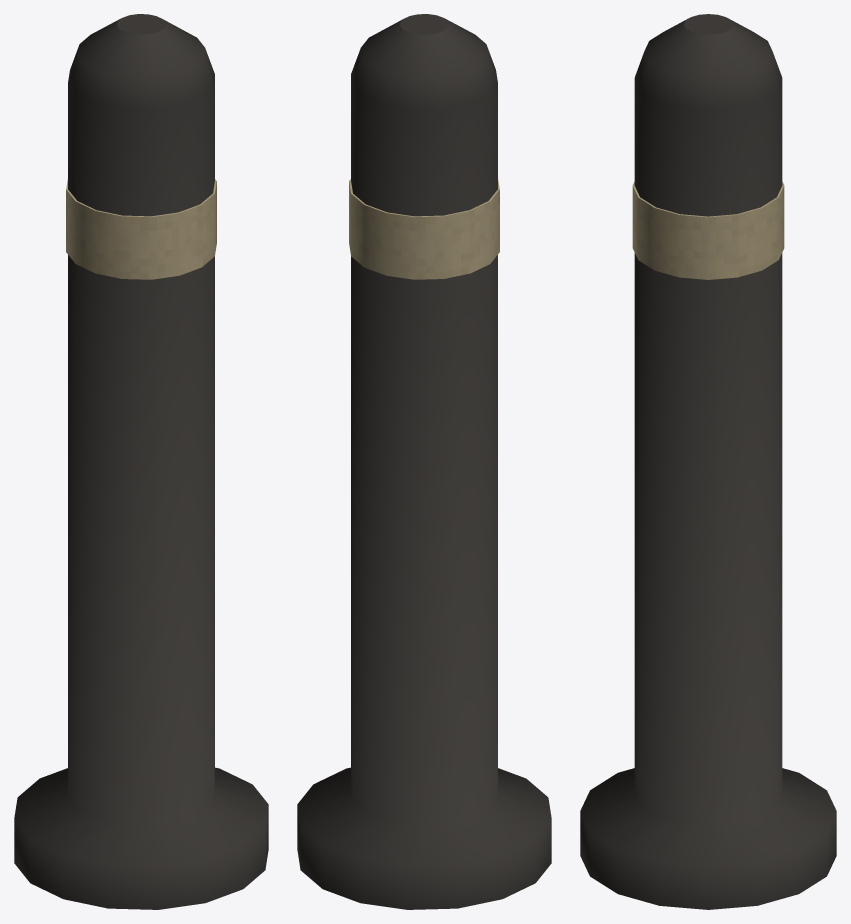
Rendered from MS_SP_06_Bollard.glb.
3 views of the same model, side by side, from view 1: azimuth 30°, elevation 25°; view 2: azimuth 150°, elevation 25°; view 3: azimuth 270°, elevation 25° (orthographic).
Visible parts, largest first — view 1: RoundedBollard, Reflector; view 2: RoundedBollard, Reflector; view 3: RoundedBollard, Reflector.
Part boxes in pixels (bbox=[...]): RoundedBollard: bbox=[14, 14, 268, 909]; Reflector: bbox=[66, 179, 216, 279]; RoundedBollard: bbox=[297, 14, 551, 909]; Reflector: bbox=[349, 179, 499, 279]; RoundedBollard: bbox=[580, 14, 836, 909]; Reflector: bbox=[632, 181, 784, 279].
Bounding box in the file's own units: 0.26 × 0.93 × 0.26.
Materials: 2 (1 with a texture image).
